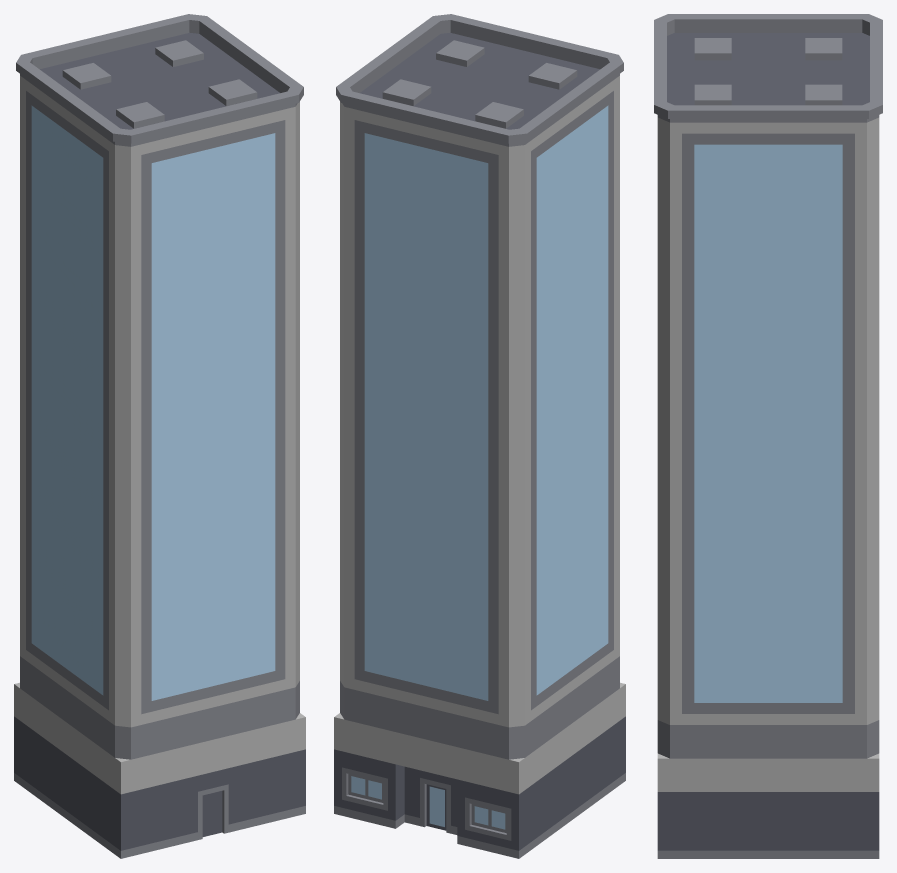
File: skyscraperB.obj
3 renders of one model, left to right at view 1: azimuth 30°, elevation 25°; view 2: azimuth 150°, elevation 25°; view 3: azimuth 270°, elevation 25°, orthographic. The views are drawn at different scales.
Parts seen in each view (by area): view 1: skyscraperB; view 2: skyscraperB; view 3: skyscraperB.
Part boxes in pixels (x1,y1,x2,y2): skyscraperB: (14, 14, 305, 858); skyscraperB: (334, 14, 625, 858); skyscraperB: (654, 14, 882, 858).
Size of the model in its own units: 1.24 by 4.48 by 1.24.
